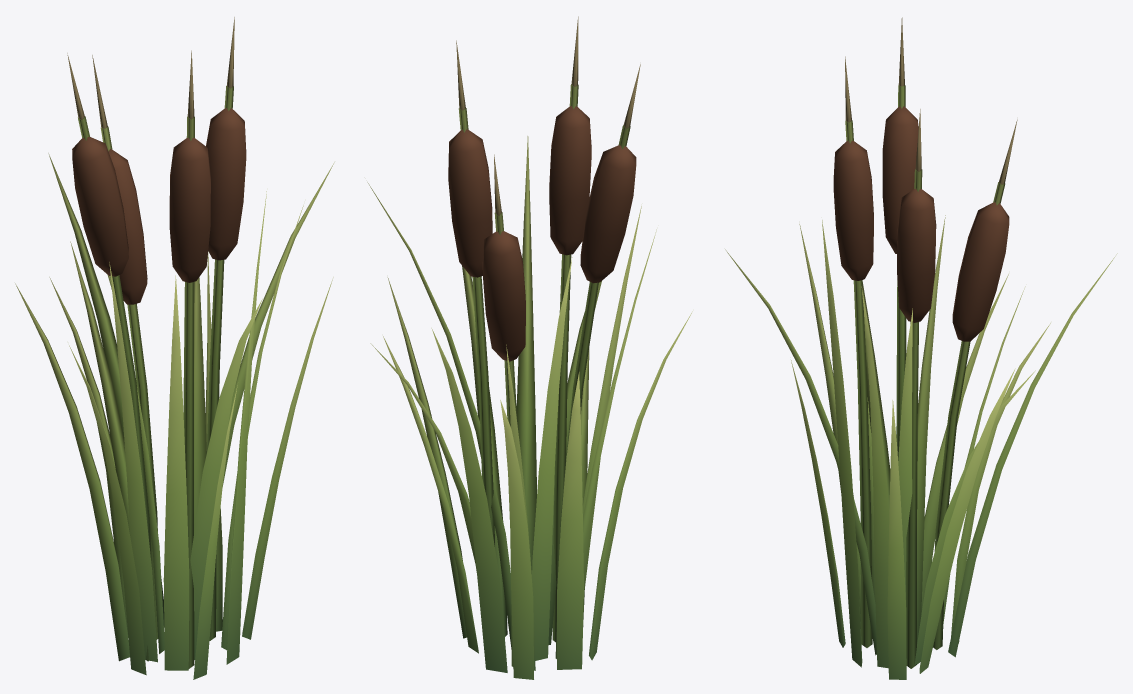
File: Reeds.fbx
3 renders of one model, left to right at view 1: azimuth 30°, elevation 25°; view 2: azimuth 150°, elevation 25°; view 3: azimuth 270°, elevation 25°, orthographic. The views are drawn at different scales.
Parts seen in each view (by area): view 1: Reeds; view 2: Reeds; view 3: Reeds.
Part boxes in pixels (left/top/right/bottom): Reeds: left=15, top=17, right=334, bottom=679; Reeds: left=367, top=16, right=692, bottom=679; Reeds: left=725, top=17, right=1117, bottom=679.
Bounding box in the file's own units: 0.5309 × 1.06 × 0.6458.
